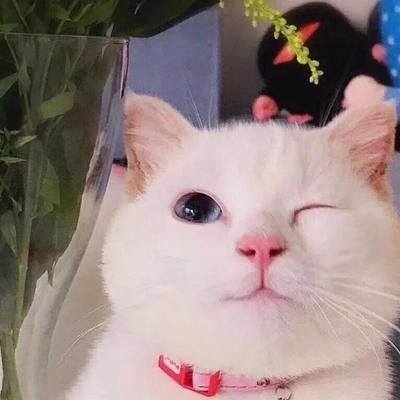cat: (114, 101, 400, 369)
